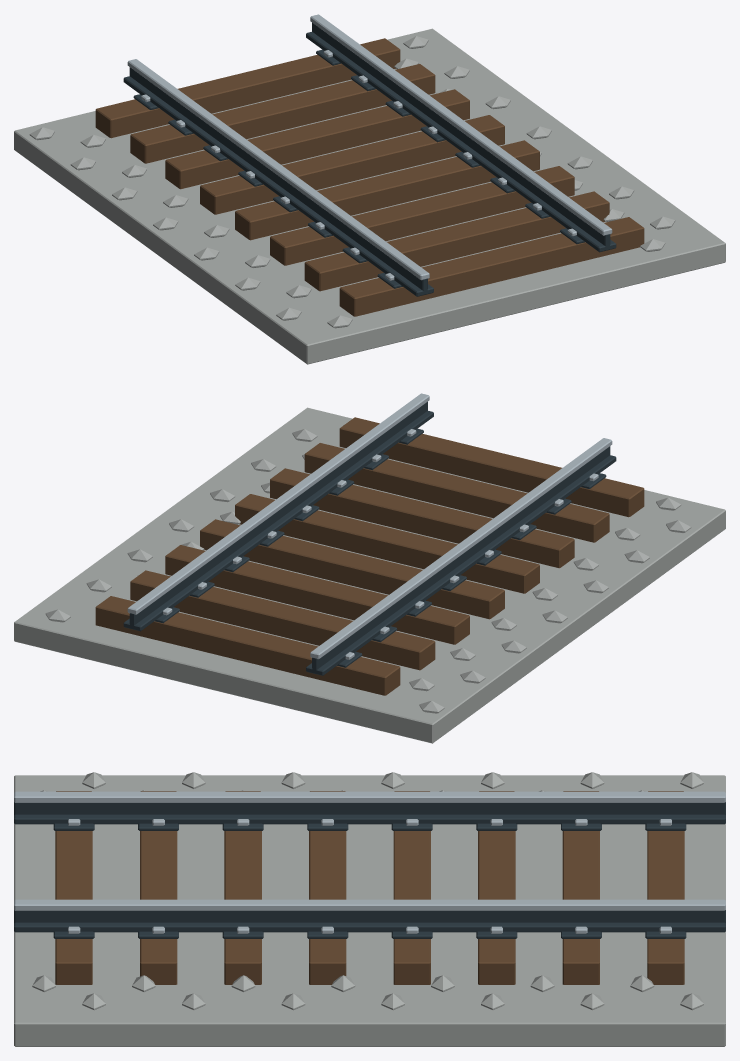
The model's file is b13_ballasted_commuter_rail_track.glb.
3 views of the same model, one above another, from view 1: azimuth 30°, elevation 25°; view 2: azimuth 150°, elevation 25°; view 3: azimuth 270°, elevation 25° (orthographic). The views are drawn at different scales.
Parts seen in each view (by area): view 1: b13_ballasted_commuter_rail_track; view 2: b13_ballasted_commuter_rail_track; view 3: b13_ballasted_commuter_rail_track.
Boxes of the visible parts, left/top/right/bottom form: b13_ballasted_commuter_rail_track: left=14, top=14, right=725, bottom=364; b13_ballasted_commuter_rail_track: left=14, top=393, right=725, bottom=743; b13_ballasted_commuter_rail_track: left=14, top=772, right=725, bottom=1046.
Size of the model in its own units: 3.3 by 0.466 by 4.
